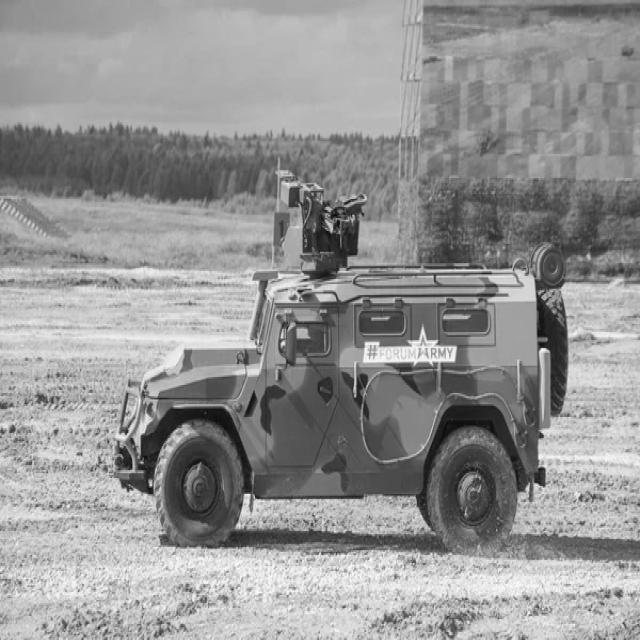Car: (111, 172, 571, 554)
